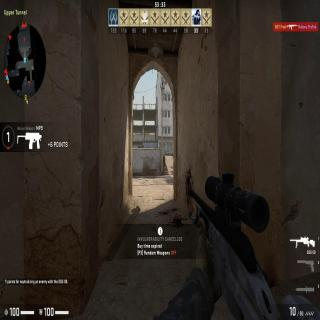T-Body: (163, 154, 165, 165)
T-Head: (163, 155, 165, 157)
